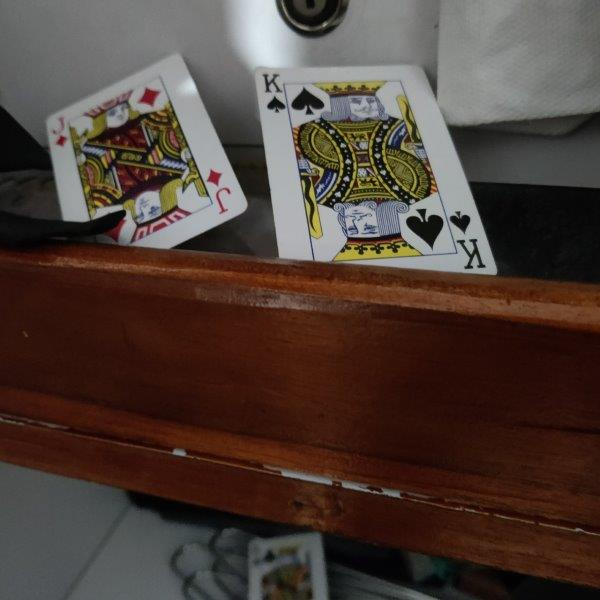Jack of Diamonds: (46, 53, 249, 250)
King of Spades: (254, 65, 500, 276)
